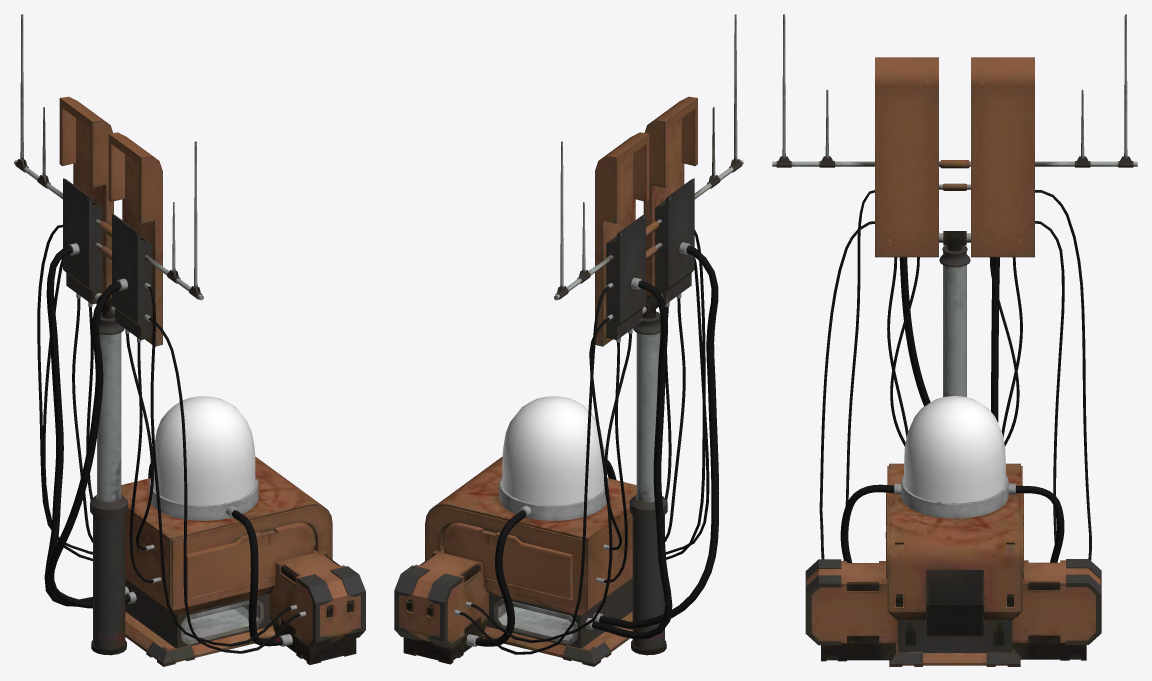
The model's file is SM_BrainwashingDevice_439870.glb.
3 renders of one model, left to right at view 1: azimuth 30°, elevation 25°; view 2: azimuth 150°, elevation 25°; view 3: azimuth 270°, elevation 25°, orthographic.
Bounding box in the file's own units: 0.9914 × 2.01 × 1.19.
Materials: 3 (2 with a texture image).
